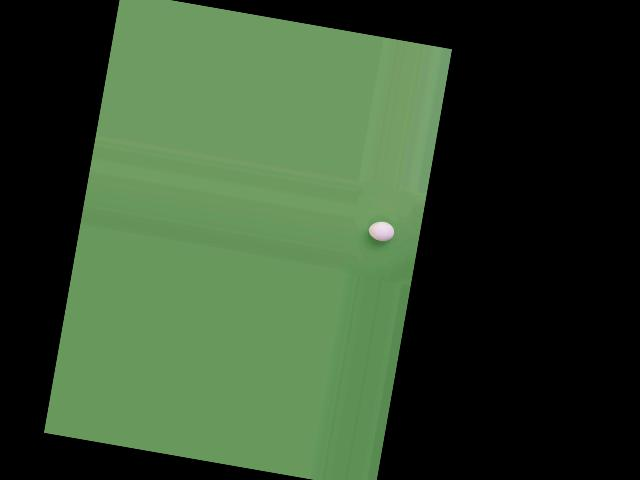egg: (367, 219, 396, 243)
